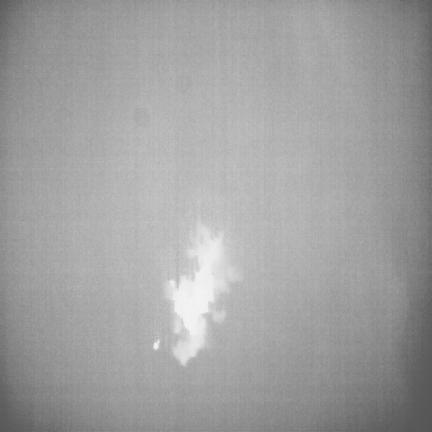flukeprints: (165, 224, 238, 365)
